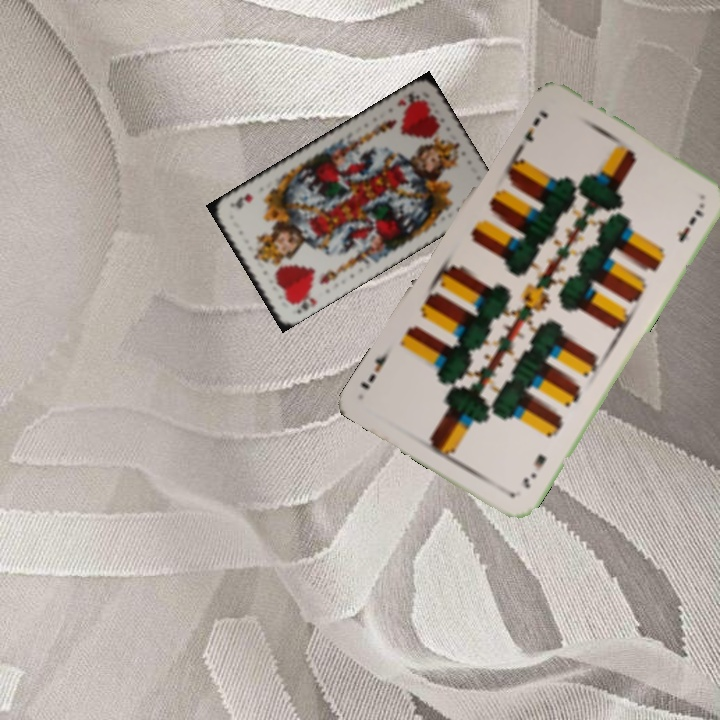E7: (519, 450, 549, 491), (521, 106, 551, 145)
HK: (286, 293, 319, 316), (393, 86, 422, 109)
